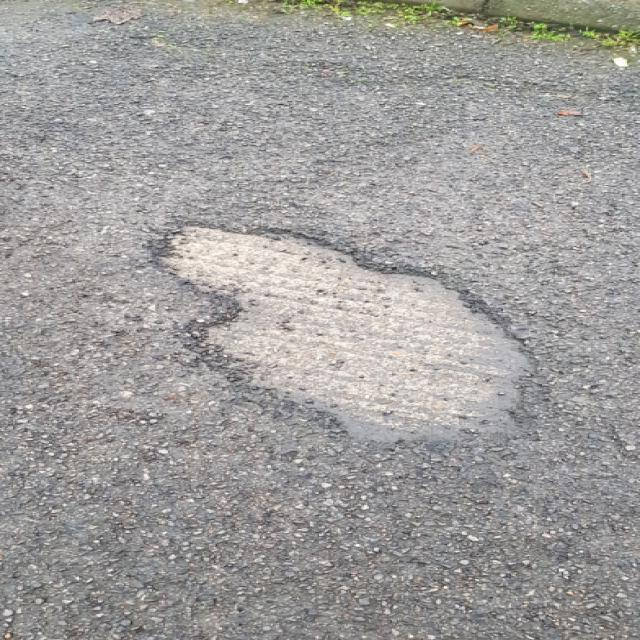Pothole: (146, 217, 547, 451)
